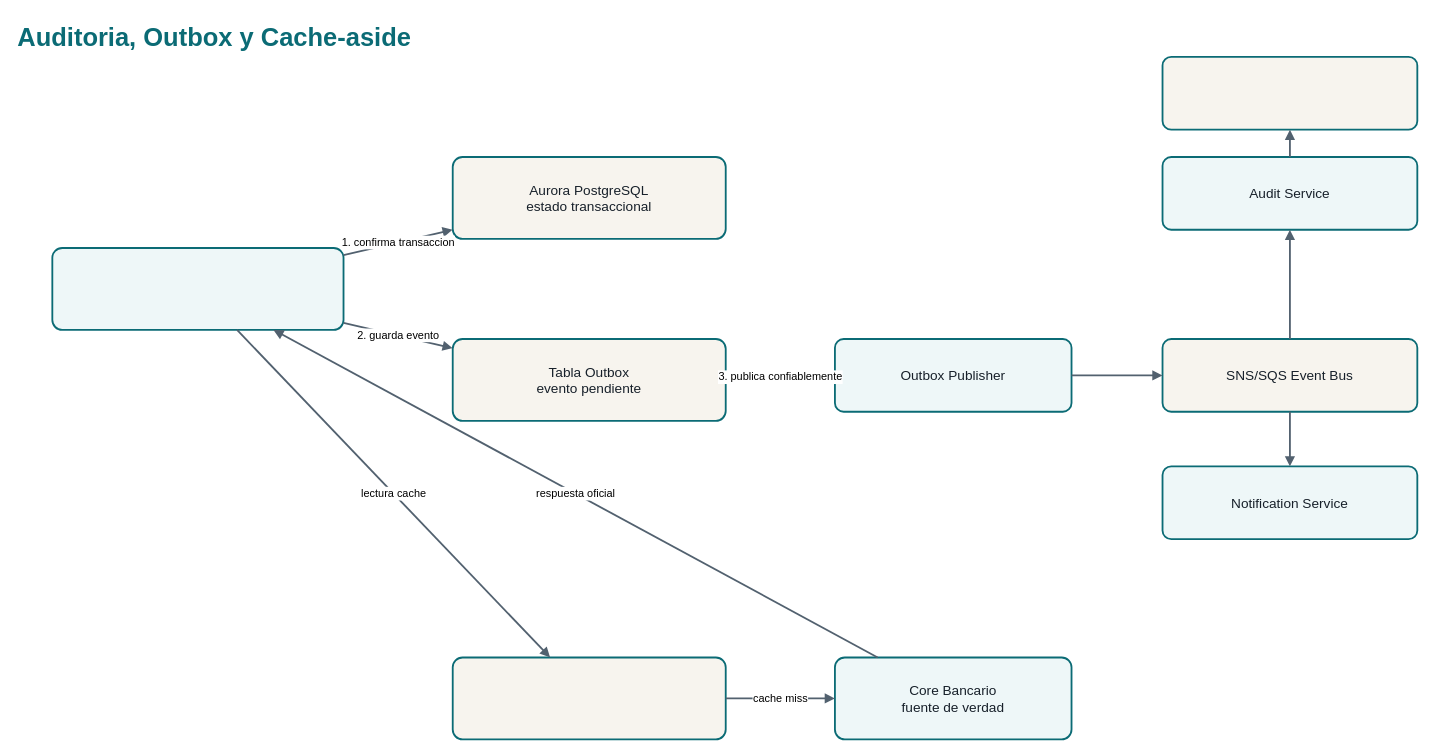
This 1433x755 diagram has some shape labels left out. Each missing label, with the box of its shape:
QLDB / S3 Object Lock append-only: (1161, 56, 1418, 130)
Redis Cache clientes frecuentes: (451, 656, 726, 740)
Servicio de negocio transferencia, pago o consulta: (51, 247, 344, 330)
